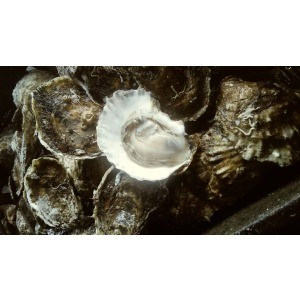oyster_brain food: (78, 104, 224, 179)
